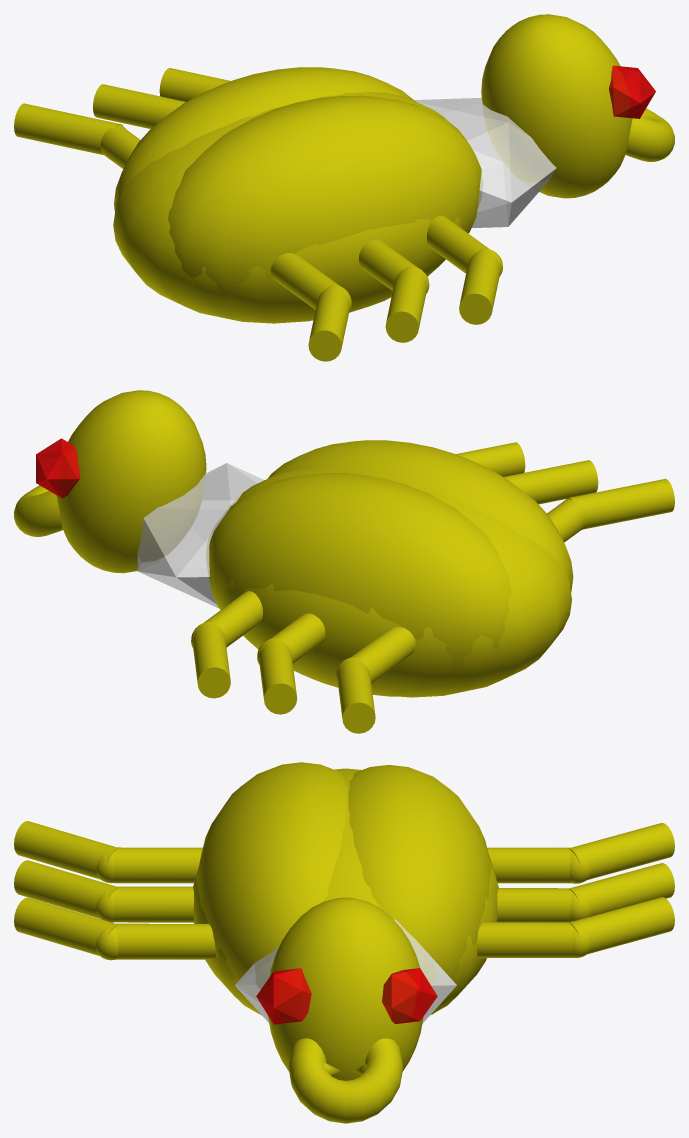
The model's file is scarab.fbx.
3 views of the same model, one above another, from view 1: azimuth 30°, elevation 25°; view 2: azimuth 150°, elevation 25°; view 3: azimuth 270°, elevation 25° (orthographic). The views are drawn at different scales.
Parts seen in each view (by area): view 1: pasted__pPlatonic2; view 2: pasted__pPlatonic2; view 3: pasted__pPlatonic2.
Boxes of the visible parts, x1,y1,x2,y2 form: pasted__pPlatonic2: (14,14,674,361); pasted__pPlatonic2: (14,390,674,733); pasted__pPlatonic2: (14,762,674,1123).
Size of the model in its own units: 3.3 by 1.3 by 3.35.
